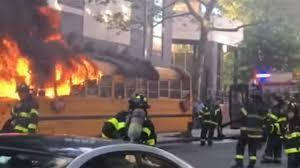fire: (1, 29, 106, 108)
